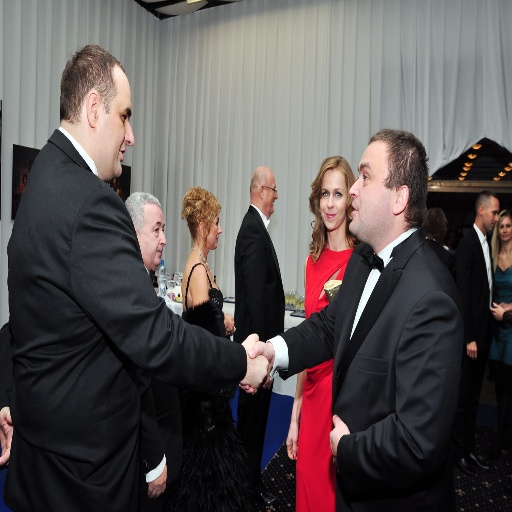hand: (238, 339, 272, 399), (328, 412, 349, 464), (145, 462, 167, 503), (0, 405, 14, 467), (284, 419, 298, 461), (488, 301, 505, 321), (223, 310, 235, 335), (466, 338, 477, 360), (498, 300, 511, 310), (223, 329, 234, 335)
